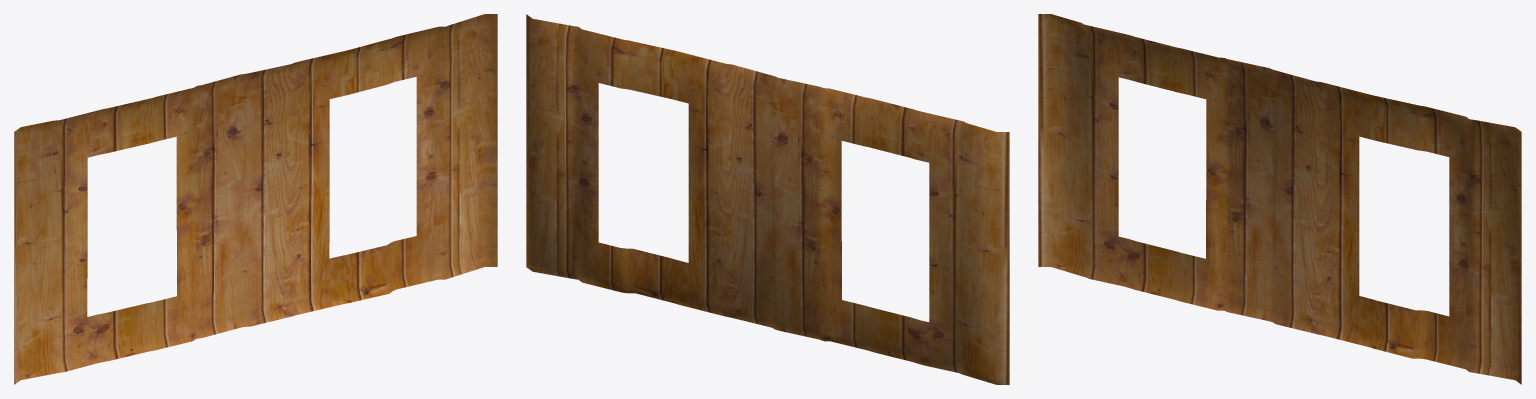
The model's file is woodWallWindows.fbx.
The picture shows the model from 3 angles, left to right: view 1: azimuth 30°, elevation 25°; view 2: azimuth 150°, elevation 25°; view 3: azimuth 330°, elevation 25°; orthographic projection.
Parts seen in each view (by area): view 1: WoodWallWindow_LOD0; view 2: WoodWallWindow_LOD0; view 3: WoodWallWindow_LOD0.
Boxes of the visible parts, x1,y1,x2,y2 form: WoodWallWindow_LOD0: (14, 14, 497, 384); WoodWallWindow_LOD0: (526, 14, 1009, 384); WoodWallWindow_LOD0: (1038, 14, 1521, 384).
Size of what is drawn, in the model's own units: 500 by 250 by 10.6.
